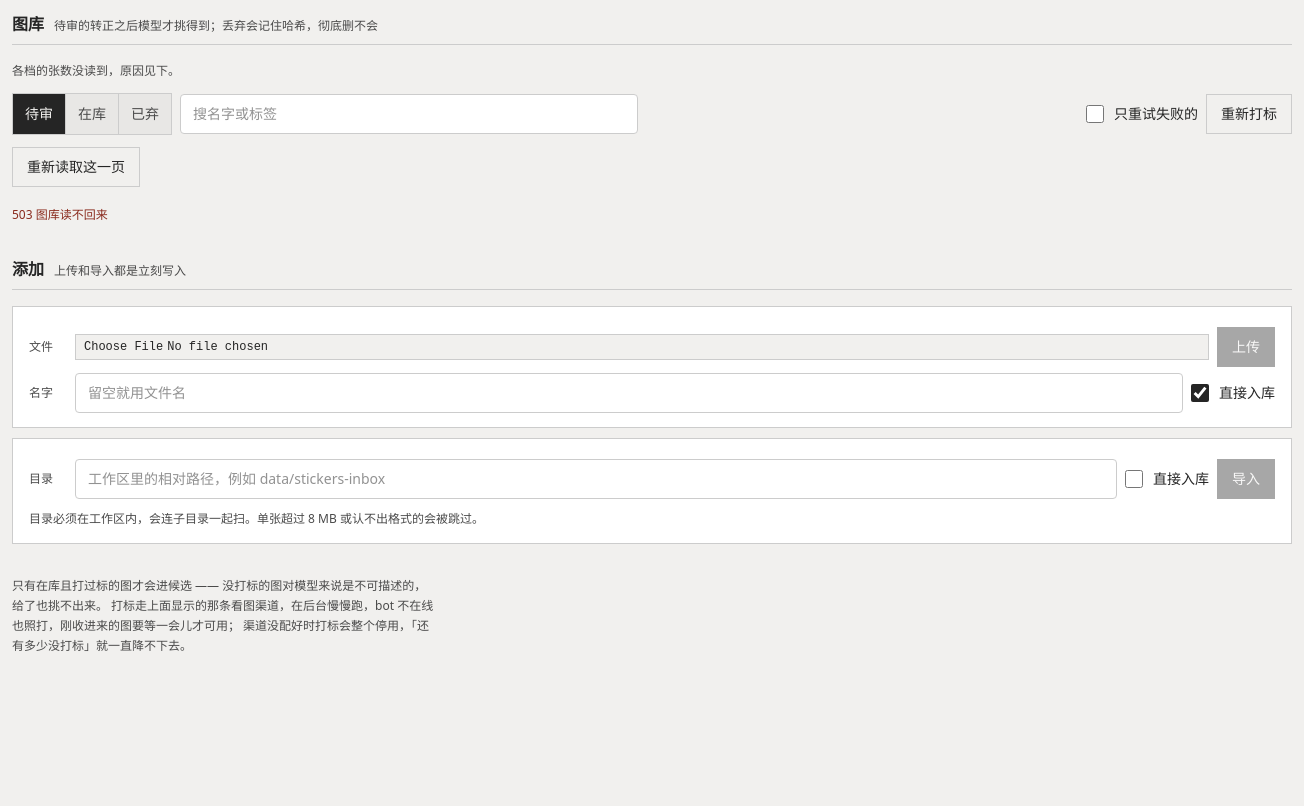
图库的那一句提示 › 这一档读失败，切到另一档读成功就不再报那句
Click the button "在库": (92, 114) [65, 94, 118, 134]
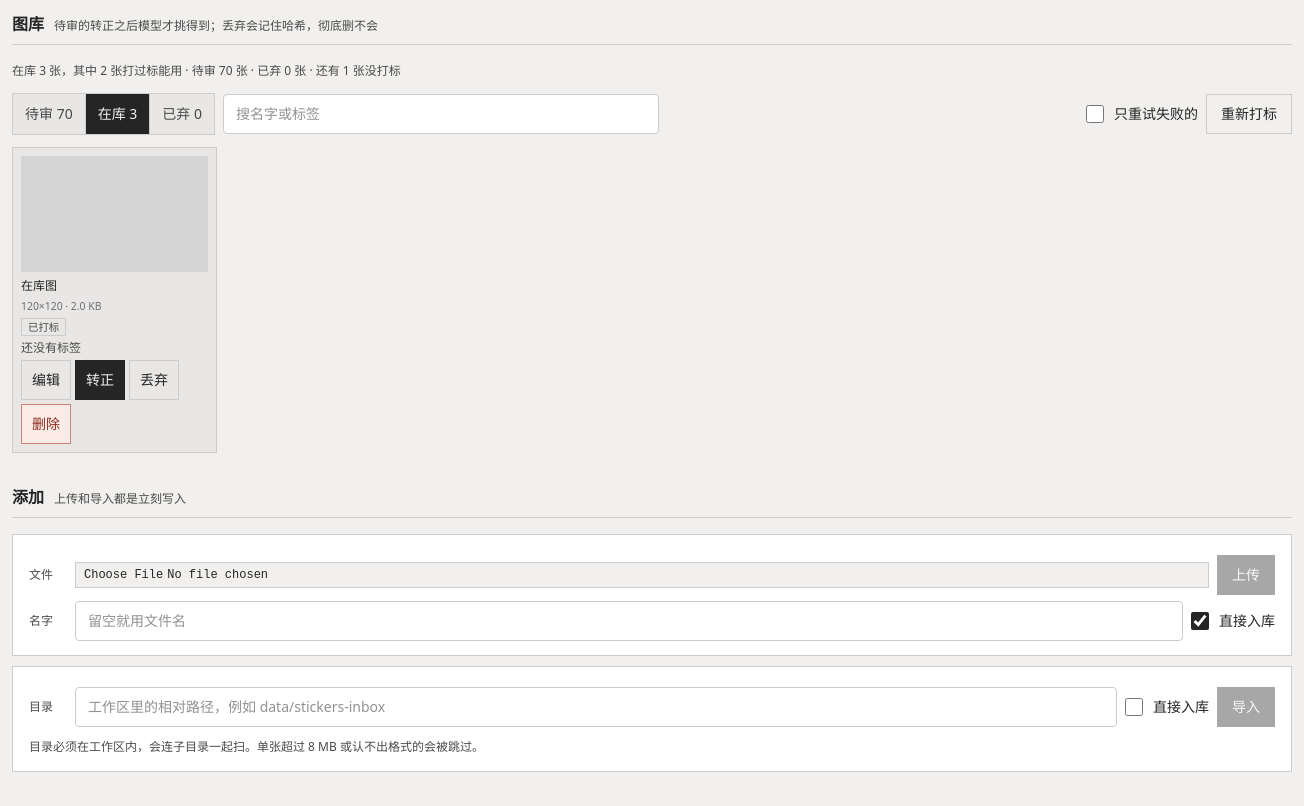
expect the text "在库图" is shown: met, box [21, 277, 57, 294]
expect the text "503 图库读不回来" is gone: met
